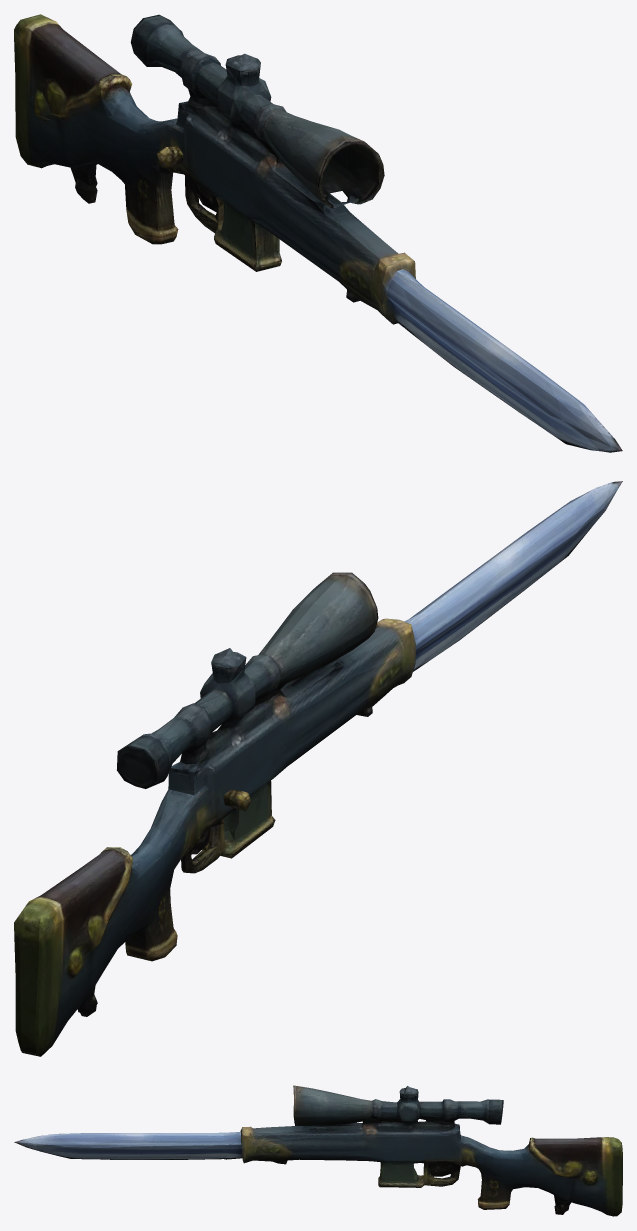
Rendered from qinggang.glb.
3 views of the same model, one above another, from view 1: azimuth 30°, elevation 25°; view 2: azimuth 150°, elevation 25°; view 3: azimuth 270°, elevation 25° (orthographic). The views are drawn at different scales.
Visible parts, largest first — view 1: geometry_0; view 2: geometry_0; view 3: geometry_0.
Boxes of the visible parts, x1,y1,x2,y2 form: geometry_0: (14, 14, 622, 452); geometry_0: (14, 481, 622, 1056); geometry_0: (14, 1085, 622, 1216).
Size of the model in its own units: 0.0792 by 0.2363 by 0.9966.
Materials: 1 (1 with a texture image).
